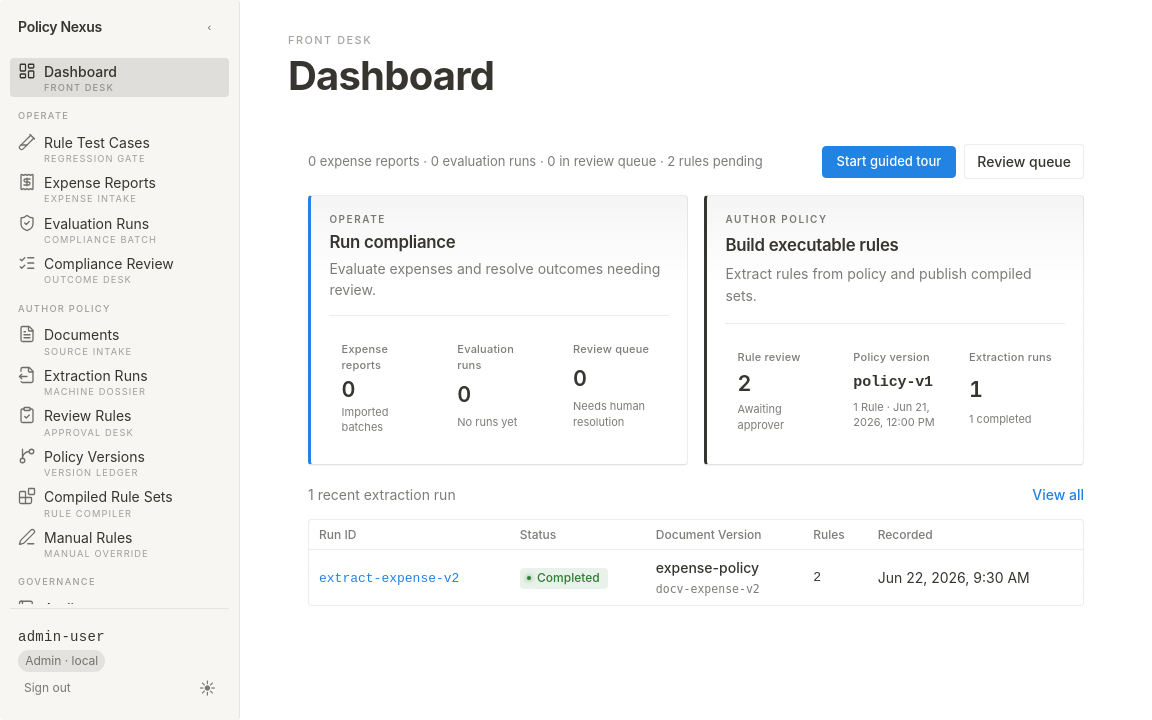
Test case: App › opens the publish drawer only after clicking Publish Policy Version
Expected: the heading "Dashboard" is shown, [288, 51, 494, 100]
Click the button "Policy Versions Version Ledger" at (120, 462), box [10, 443, 229, 482]
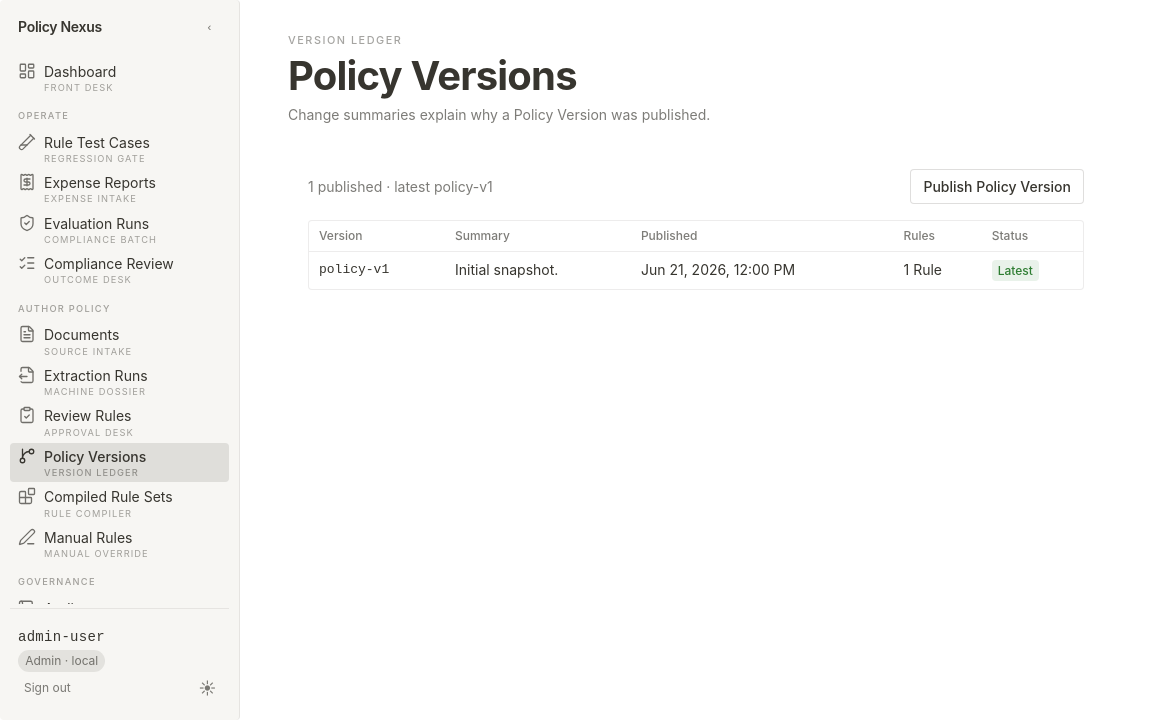
Expected: the field labelled "Policy Version id" is not shown
Result: the button "policy-v1" is shown at [319, 261, 435, 280]
Click the button "Publish Policy Version" at (997, 187), box [910, 169, 1084, 204]
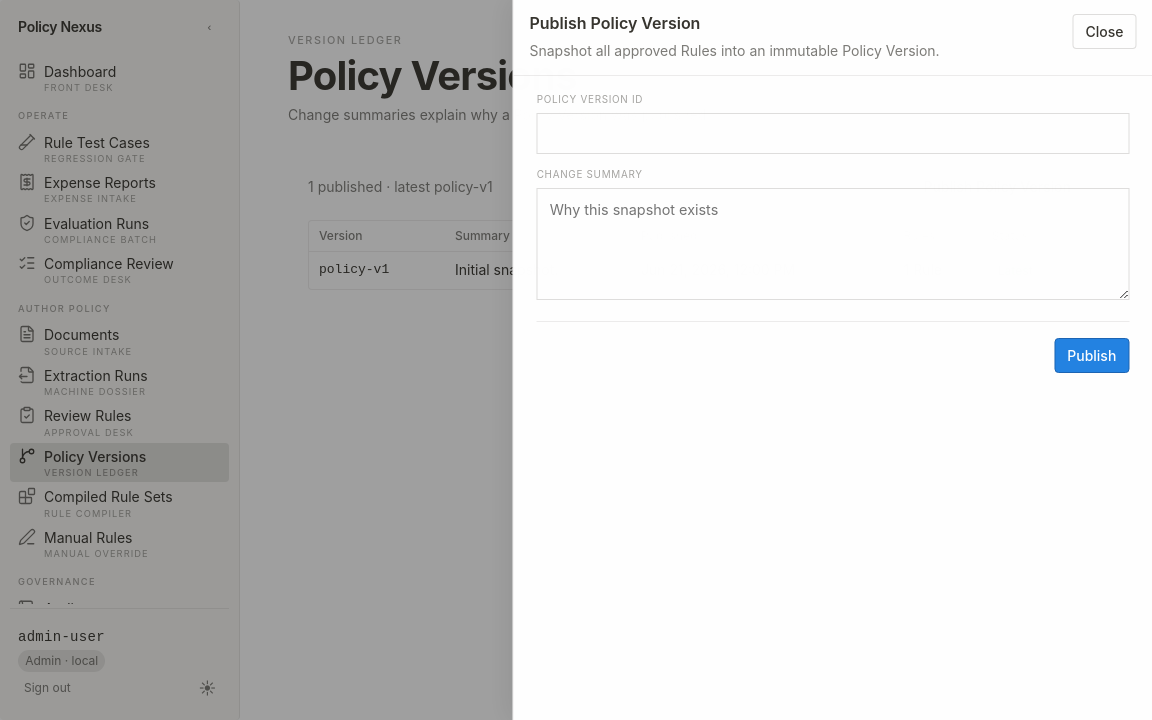
Result: the field labelled "Policy Version id" is shown at [536, 113, 1129, 154]
Click the button named "Close publish Policy Version drawer" at (69, 360), box [0, 0, 1151, 719]
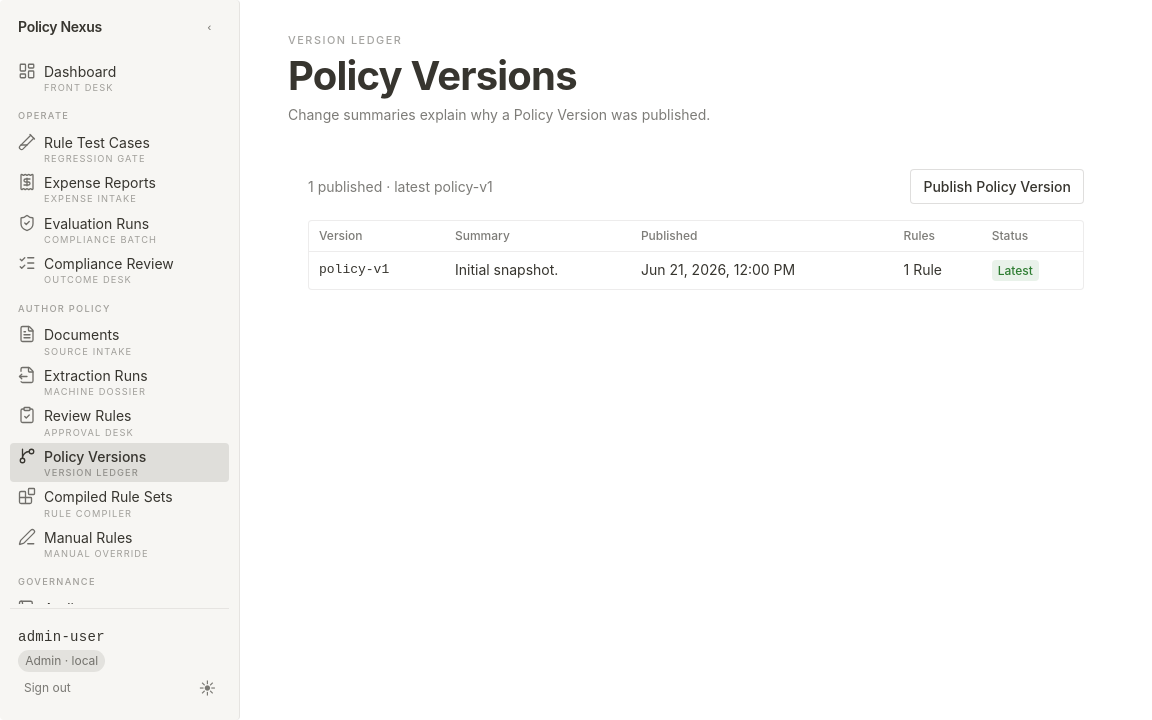
Result: the label labelled "Policy Version id" is gone
Click the button "Documents Source Intake" at (120, 341), box [10, 321, 229, 361]
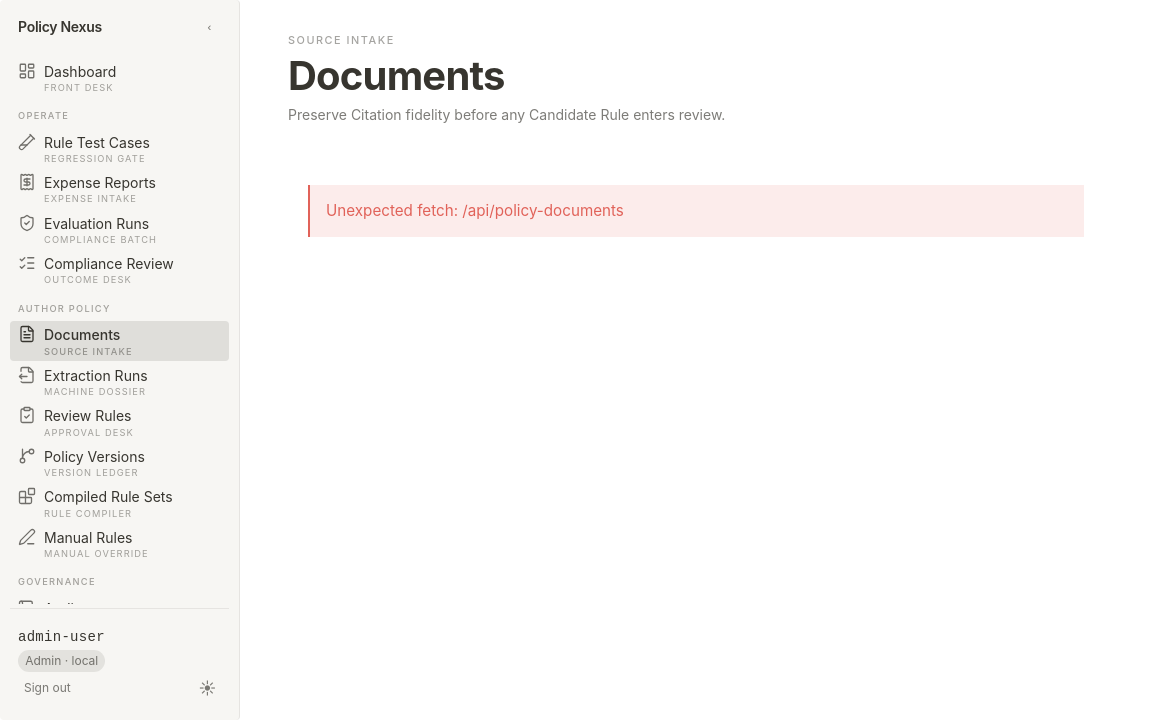
Click the button "Policy Versions Version Ledger" at (120, 462), box [10, 443, 229, 482]
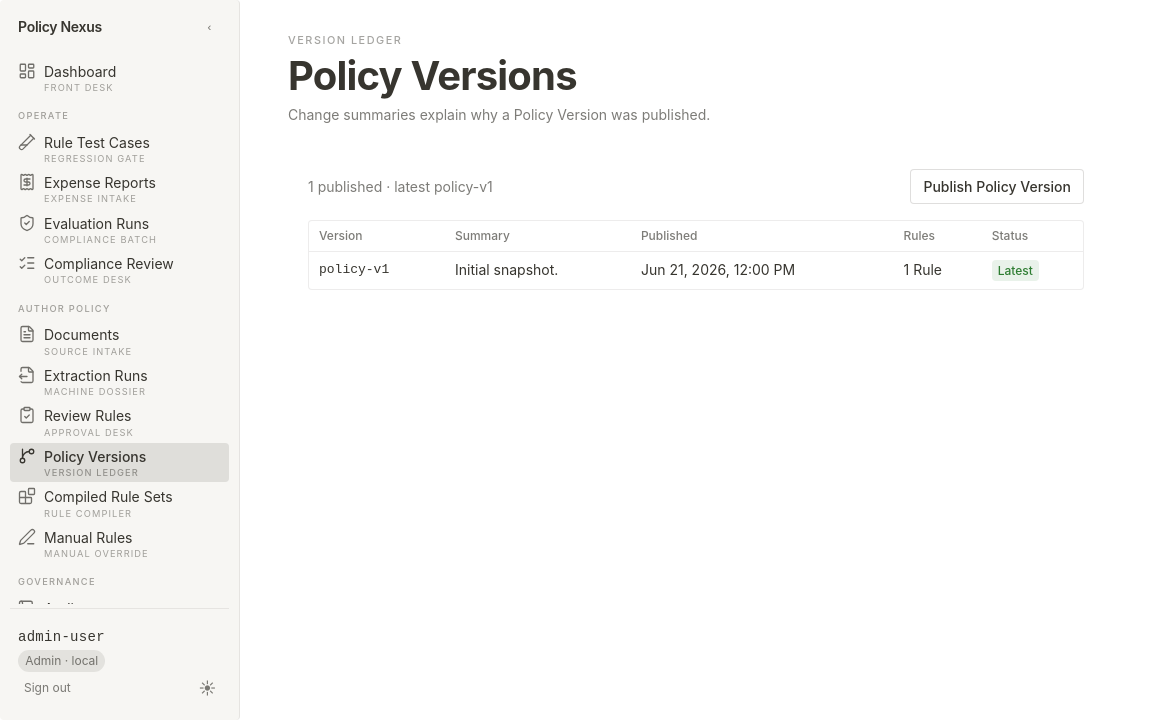
Expected: the label labelled "Policy Version id" is not shown
Result: the button "policy-v1" is shown at [319, 261, 435, 280]
